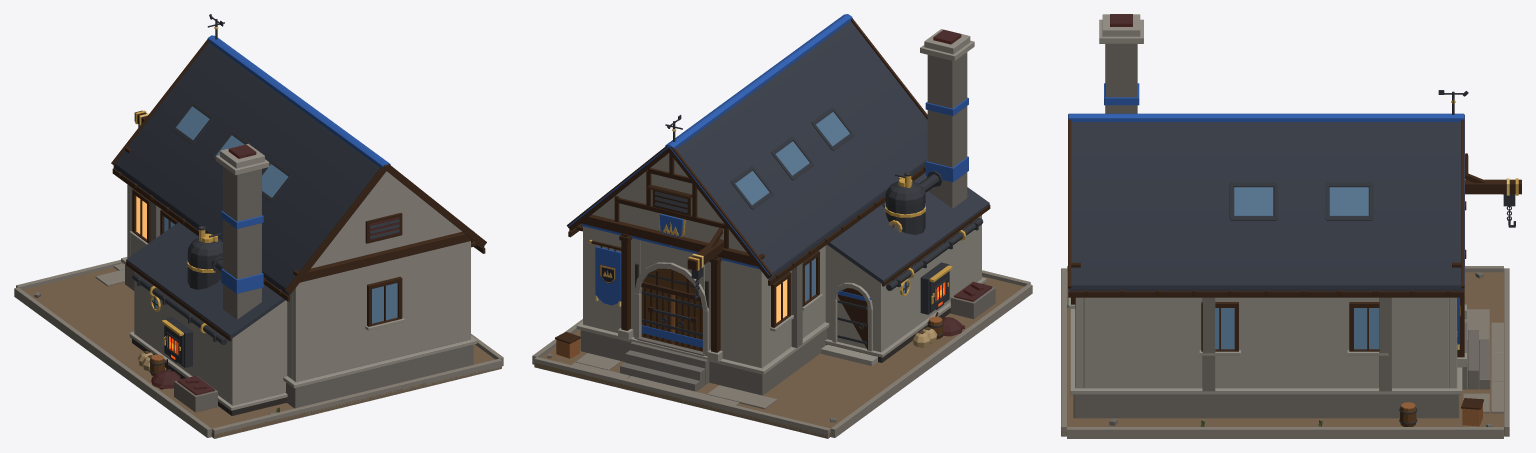
File: 蒸汽车坊.glb
3 renders of one model, left to right at view 1: azimuth 30°, elevation 25°; view 2: azimuth 150°, elevation 25°; view 3: azimuth 270°, elevation 25°, orthographic. The views are drawn at different scales.
Visible parts, largest first — view 1: SW-stone_light, SW-roof, SW-stone_mid, SW-earth, SW-wood_dark, SW-paving, SW-iron, SW-team, SW-glass, SW-coal, SW-gold, SW-stone_dark; view 2: SW-roof, SW-stone_light, SW-wood_dark, SW-stone_mid, SW-earth, SW-paving, SW-iron, SW-team, SW-glass, SW-wood_mid, SW-gold, SW-coal (+2 smaller); view 3: SW-roof, SW-stone_light, SW-stone_mid, SW-paving, SW-wood_dark, SW-earth, SW-team, SW-glass, SW-iron, SW-wood_warm.
Part boxes in pixels (<box>): SW-stone_light: <box>121,143,477,410</box>; SW-roof: <box>113,42,484,338</box>; SW-stone_mid: <box>34,166,473,414</box>; SW-earth: <box>22,267,501,438</box>; SW-wood_dark: <box>111,39,486,370</box>; SW-paving: <box>14,260,503,438</box>; SW-iron: <box>132,14,399,374</box>; SW-team: <box>207,35,390,293</box>; SW-glass: <box>152,106,397,323</box>; SW-coal: <box>151,144,399,395</box>; SW-gold: <box>135,26,218,350</box>; SW-stone_dark: <box>132,338,286,415</box>; SW-roof: <box>569,21,989,283</box>; SW-stone_light: <box>576,29,986,374</box>; SW-wood_dark: <box>555,18,990,352</box>; SW-stone_mid: <box>547,52,995,422</box>; SW-earth: <box>534,276,1024,438</box>; SW-paving: <box>532,270,1032,438</box>; SW-iron: <box>600,107,983,344</box>; SW-team: <box>568,14,968,347</box>; SW-glass: <box>735,112,908,301</box>; SW-wood_mid: <box>641,268,943,351</box>; SW-gold: <box>589,129,965,304</box>; SW-coal: <box>600,29,992,336</box>; SW-roof: <box>1068,122,1464,291</box>; SW-stone_light: <box>1068,14,1466,394</box>; SW-stone_mid: <box>1067,44,1492,426</box>; SW-paving: <box>1061,266,1509,438</box>; SW-wood_dark: <box>1068,114,1521,409</box>; SW-earth: <box>1061,272,1508,435</box>; SW-team: <box>1068,83,1464,344</box>; SW-glass: <box>1215,187,1379,349</box>; SW-iron: <box>1229,90,1515,424</box>; SW-wood_warm: <box>1401,402,1482,426</box>.
Size of the model in its own units: 12.16 by 10.04 by 14.48.
